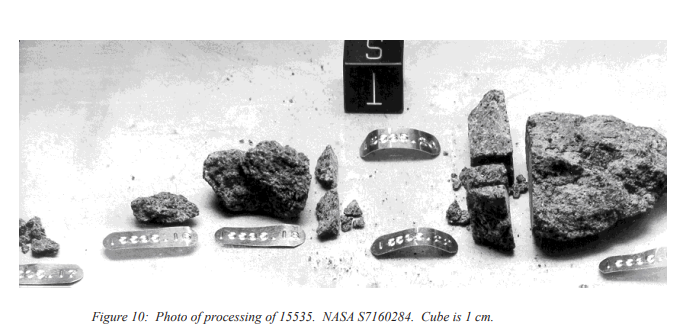Basalt: (468, 78, 674, 260), (204, 117, 359, 242), (11, 206, 65, 263), (112, 199, 211, 213)
